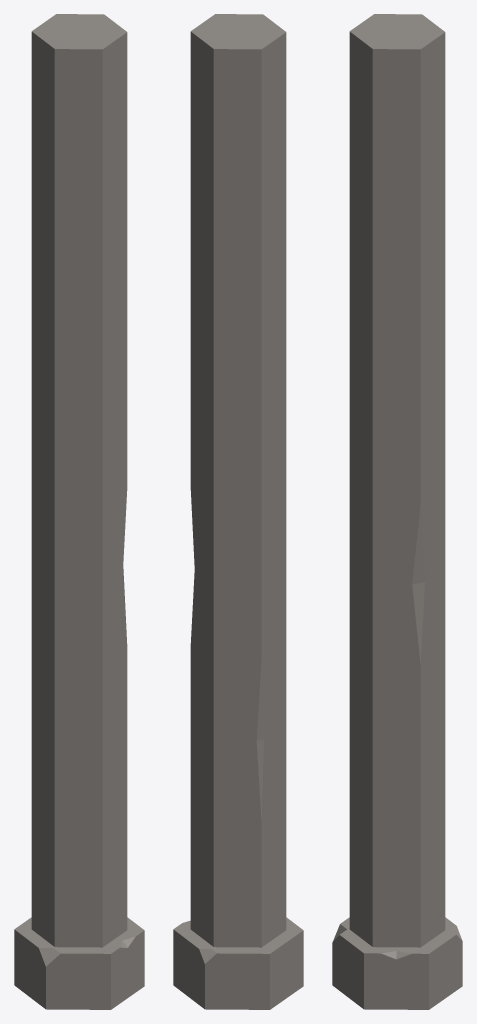
Rendered from SM_Env_Pillar_07.fbx.
The picture shows the model from 3 angles, left to right: view 1: azimuth 30°, elevation 25°; view 2: azimuth 210°, elevation 25°; view 3: azimuth 330°, elevation 25°; orthographic projection.
Visible parts, largest first — view 1: SM_Env_Pillar_07; view 2: SM_Env_Pillar_07; view 3: SM_Env_Pillar_07.
Boxes of the visible parts, bbox=[...] form: SM_Env_Pillar_07: bbox=[14, 14, 144, 1009]; SM_Env_Pillar_07: bbox=[173, 14, 303, 1009]; SM_Env_Pillar_07: bbox=[332, 14, 462, 1009].
Bounding box in the file's own units: 22.32 × 206 × 25.5.
Materials: 1 (1 with a texture image).
